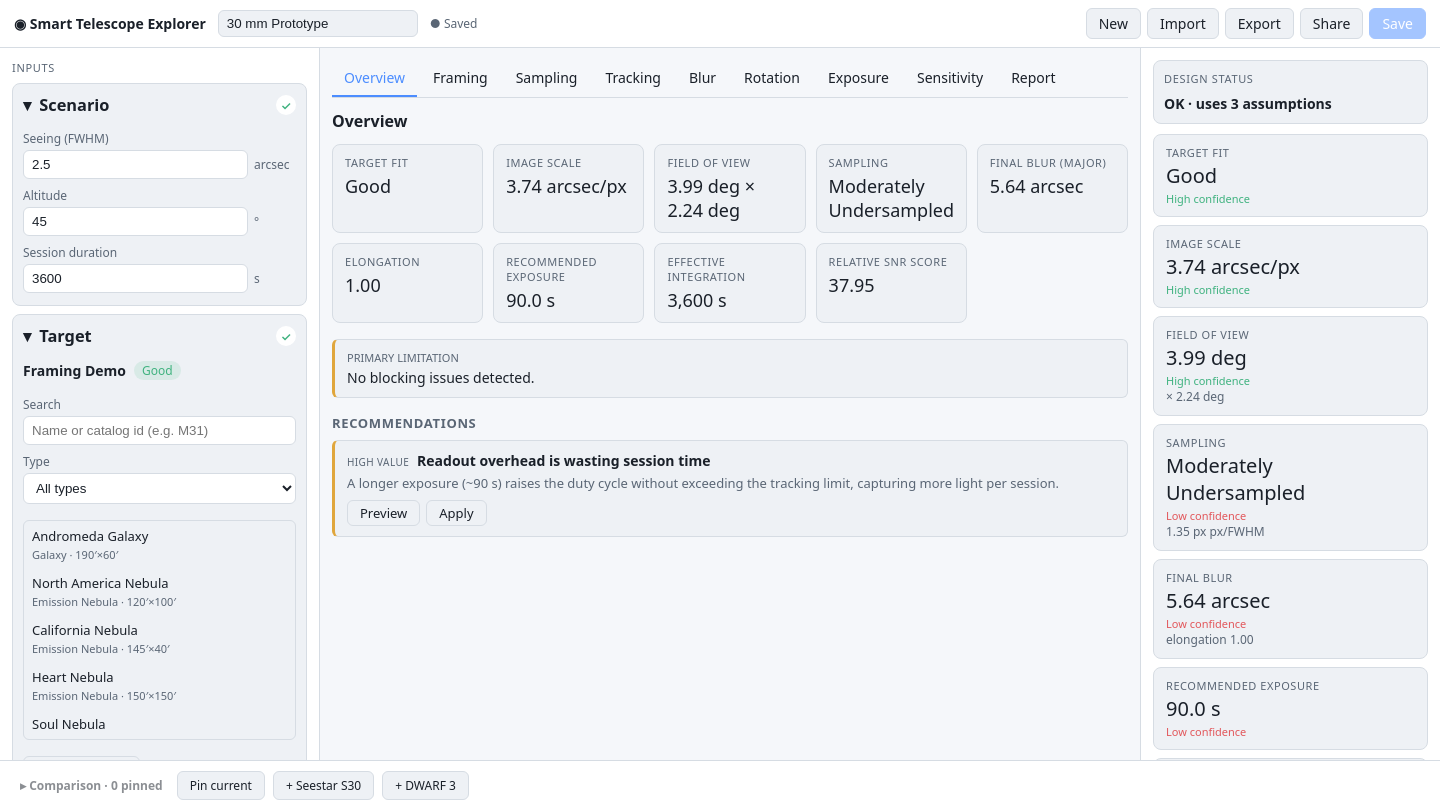
Scenario: report view (#6, spec v0.7 §18 / v0.8 §44) › applies the location-privacy selector to coordinates
Click the tab "Report" at (1033, 78), box x1=999 y1=60 x2=1068 y2=97
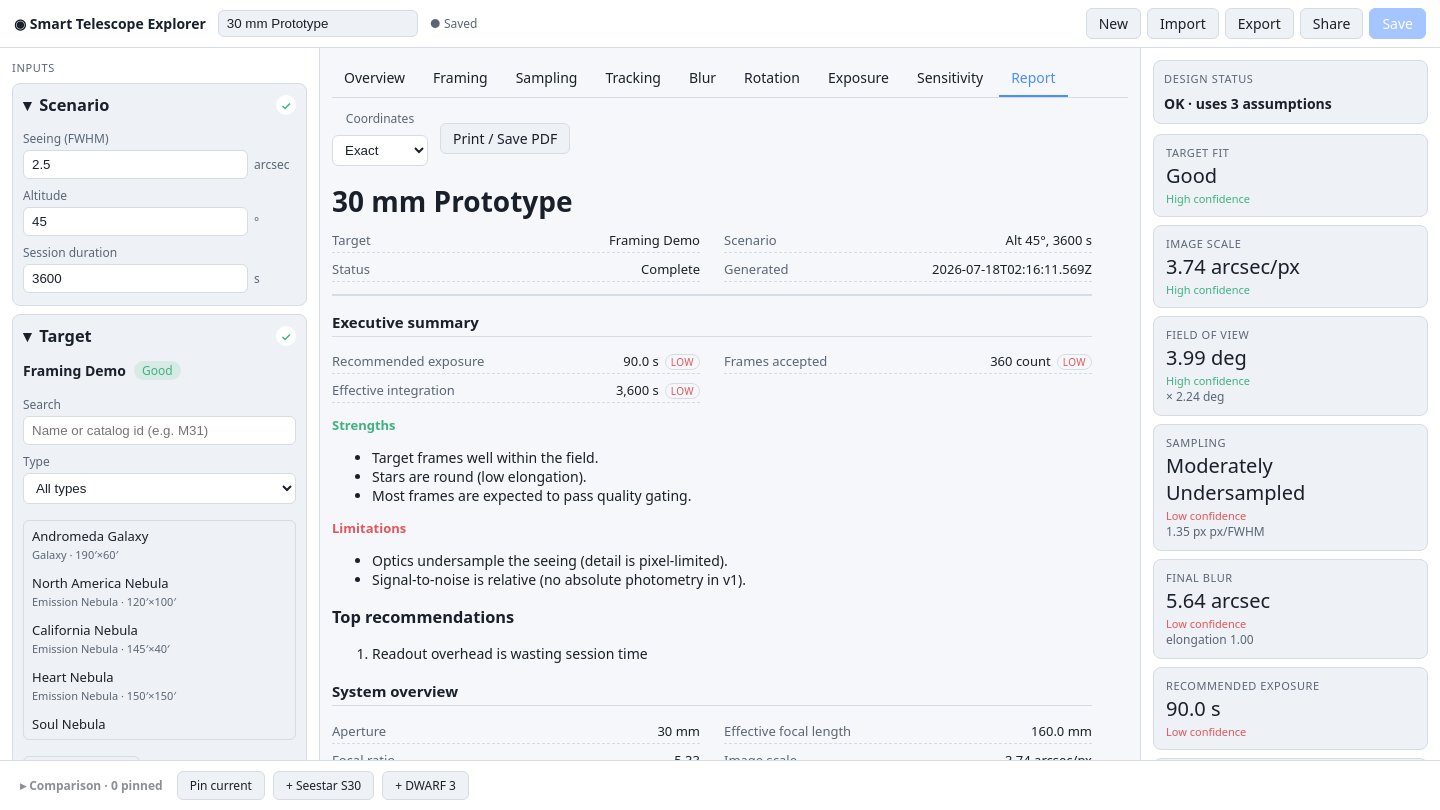
Select "Removed" in the dropdown labelled "Coordinates" at (380, 150), box x1=332 y1=135 x2=428 y2=166
(page scrolled)
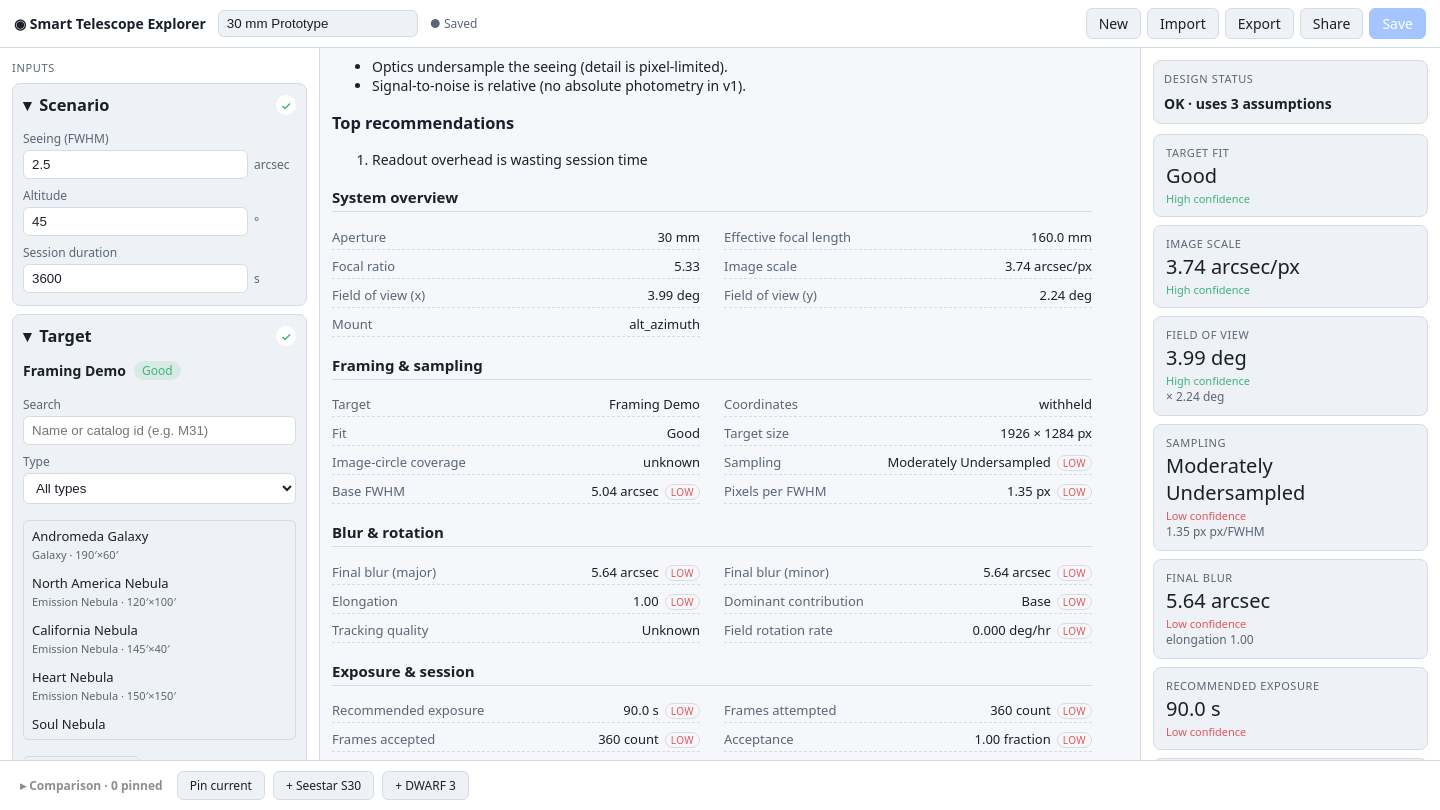
Expected: the text "withheld" is shown, x1=1039 y1=395 x2=1092 y2=413
